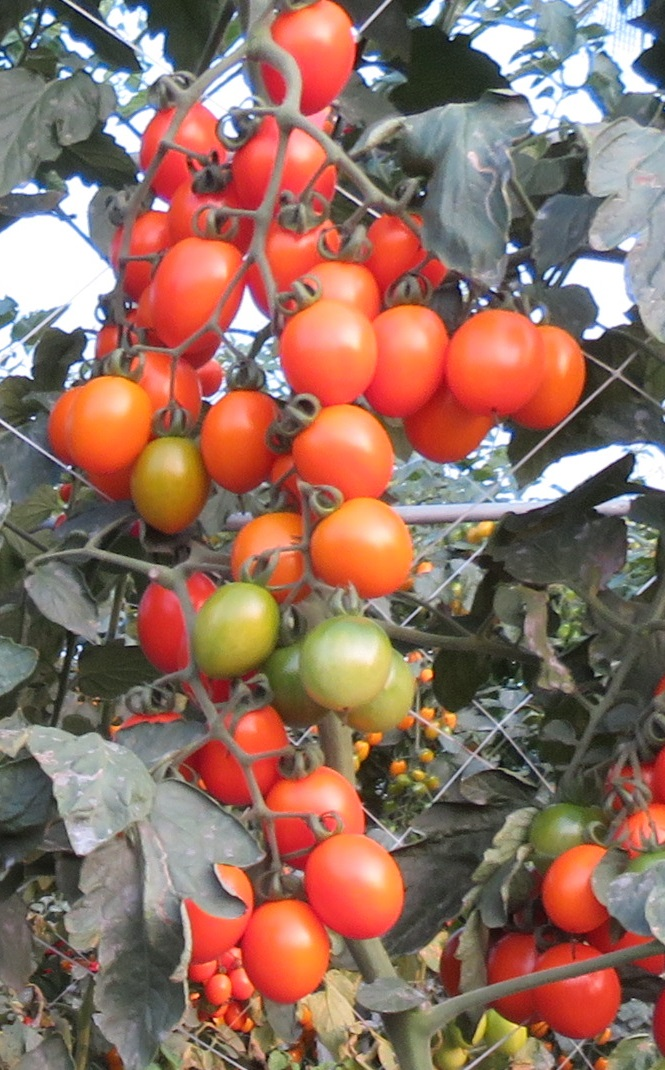green: (300, 617, 389, 711), (195, 580, 273, 686), (135, 441, 203, 536), (518, 802, 589, 865)
orange: (138, 236, 248, 353), (309, 496, 427, 604), (238, 894, 342, 1011), (290, 401, 401, 501), (302, 835, 410, 935), (446, 296, 534, 417), (285, 302, 377, 411), (265, 3, 354, 115), (69, 374, 156, 475), (270, 774, 373, 859), (201, 707, 287, 808), (202, 385, 282, 489), (375, 307, 451, 414), (139, 107, 225, 191), (525, 326, 590, 429), (539, 836, 604, 929)
red: (534, 948, 625, 1036)
